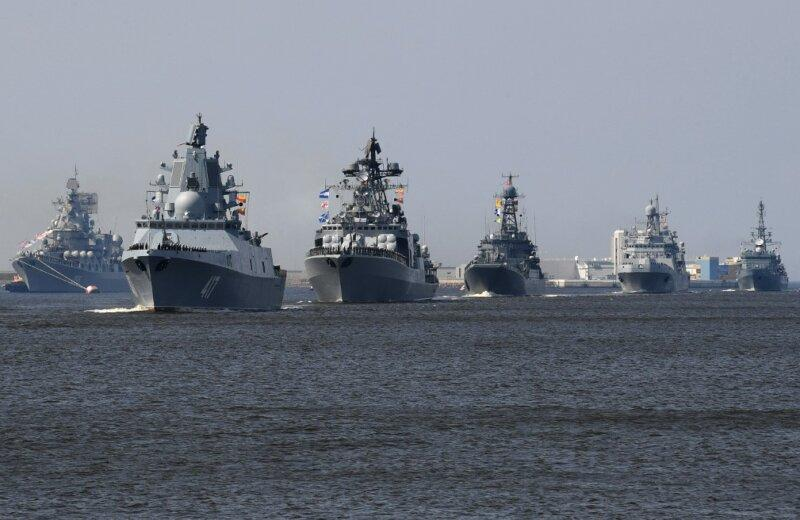MIL_Ship: (122, 113, 286, 314), (301, 129, 439, 305), (11, 165, 126, 294), (461, 171, 547, 297), (614, 194, 689, 296), (734, 198, 791, 294)
